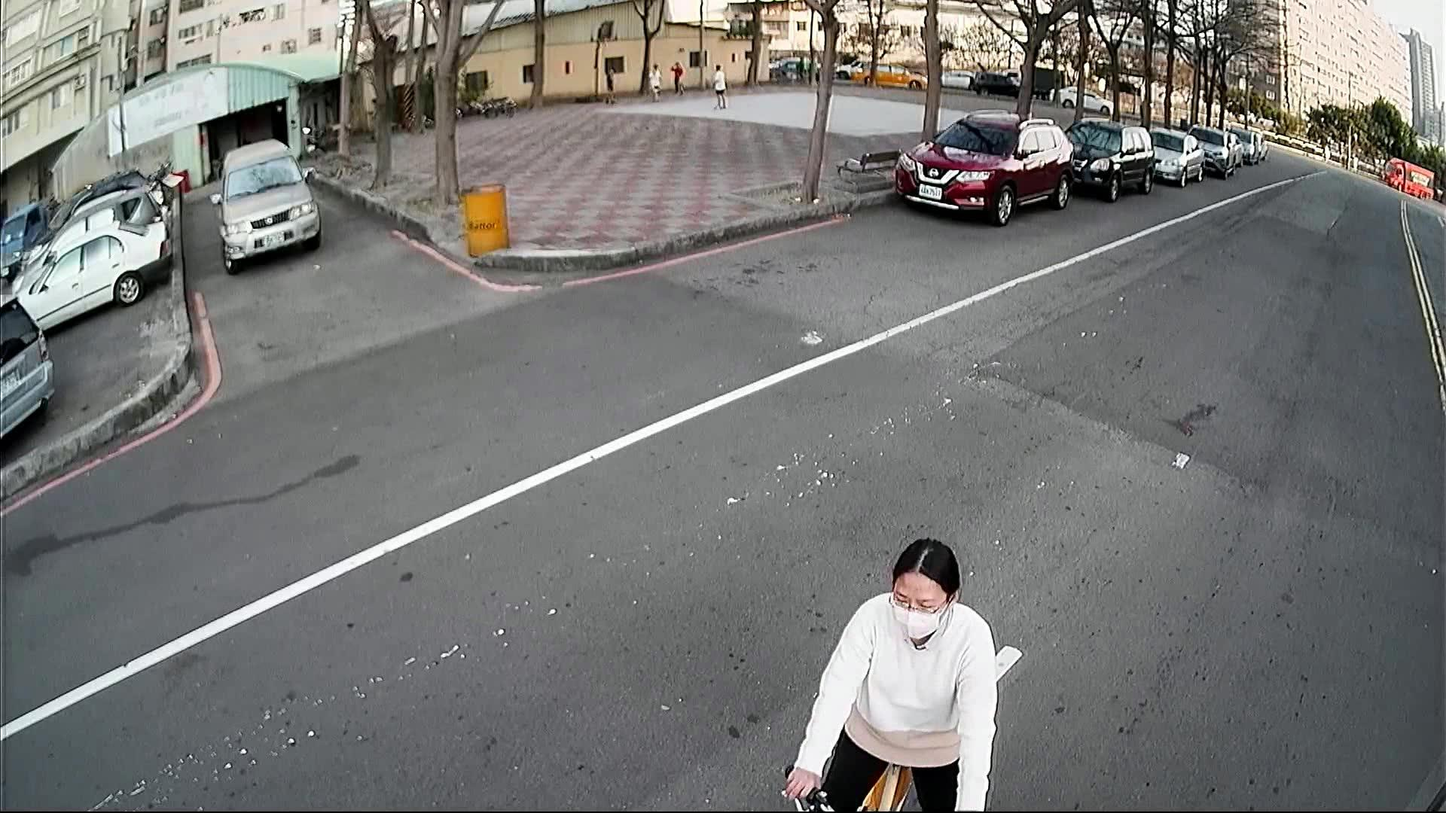person: (773, 530, 1005, 812)
